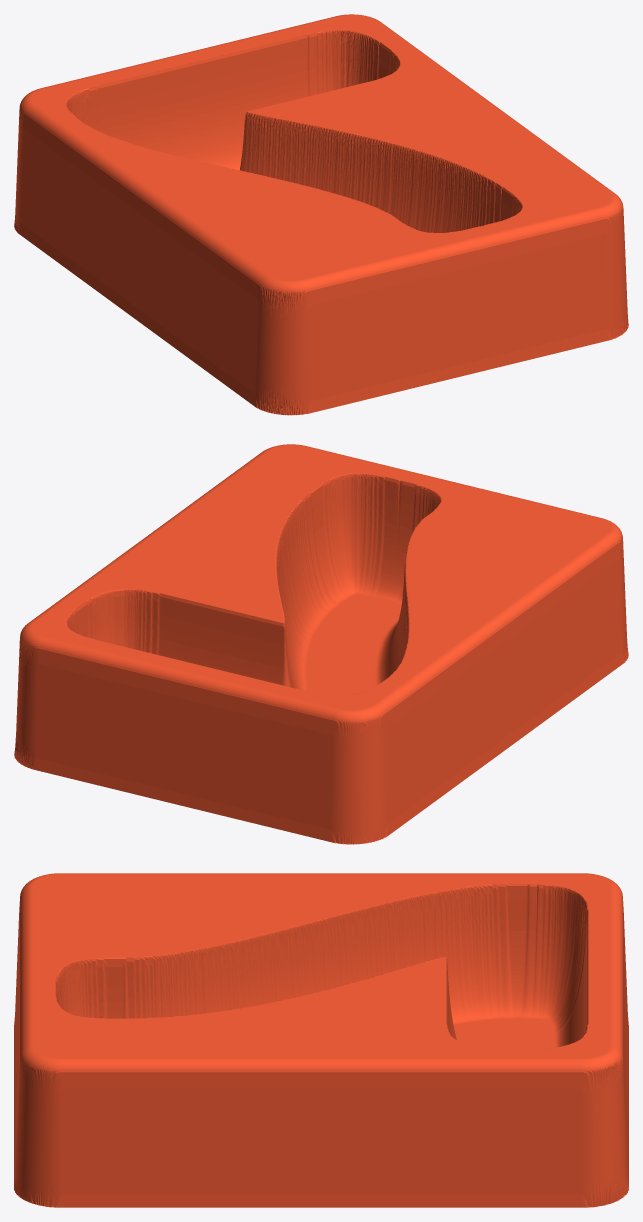
File: mold.glb
The picture shows the model from 3 angles, top to bottom: view 1: azimuth 30°, elevation 25°; view 2: azimuth 150°, elevation 25°; view 3: azimuth 270°, elevation 25°; orthographic projection. The views are drawn at different scales.
Parts seen in each view (by area): view 1: geometry_0; view 2: geometry_0; view 3: geometry_0.
Part boxes in pixels (x1=…): geometry_0: x1=14, y1=14, x2=628, y2=415; geometry_0: x1=14, y1=444, x2=628, y2=844; geometry_0: x1=14, y1=873, x2=628, y2=1207.
Bounding box in the file's own units: 0.0906 × 0.0299 × 0.1178.
